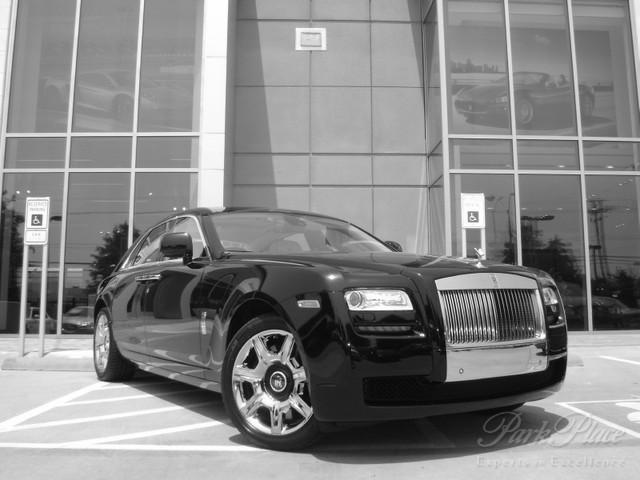car: (87, 207, 567, 446)
